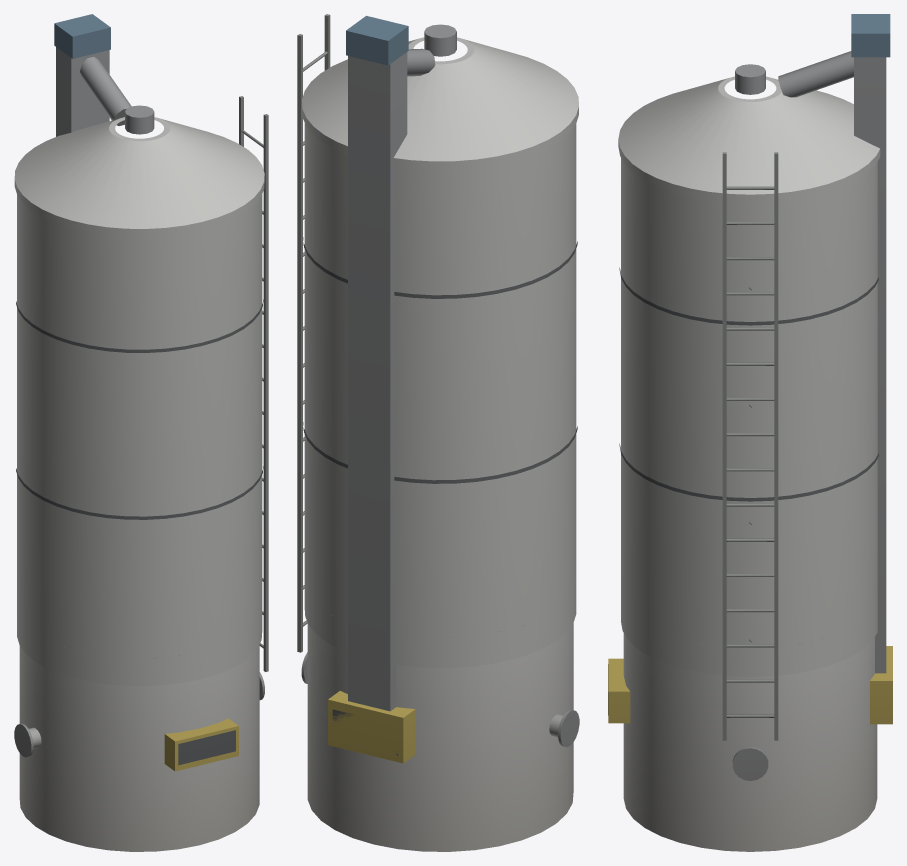
The model's file is lgSilo_steel.glb.
3 renders of one model, left to right at view 1: azimuth 30°, elevation 25°; view 2: azimuth 150°, elevation 25°; view 3: azimuth 270°, elevation 25°, orthographic. The views are drawn at different scales.
Visible parts, largest first — view 1: lgSilo_steel; view 2: lgSilo_steel; view 3: lgSilo_steel.
Boxes of the visible parts, x1=… form: lgSilo_steel: x1=14, y1=14, x2=268, y2=851; lgSilo_steel: x1=297, y1=14, x2=579, y2=851; lgSilo_steel: x1=608, y1=14, x2=892, y2=851.
Size of the model in its own units: 2.2 by 6.6 by 2.2.
